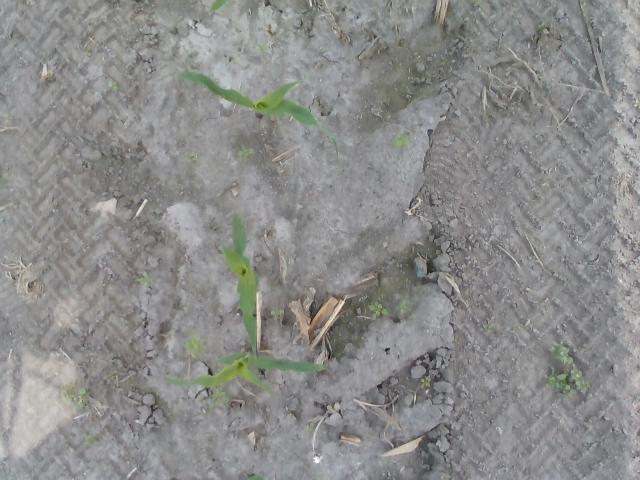Maize: (174, 71, 338, 161), (163, 352, 327, 396), (220, 211, 258, 359)
Weeds: (545, 346, 592, 398), (61, 384, 92, 410), (367, 302, 392, 320), (208, 390, 230, 410), (185, 336, 204, 357), (238, 144, 254, 161), (392, 132, 410, 146), (396, 300, 411, 316), (136, 270, 150, 286), (270, 308, 284, 323), (421, 376, 434, 390), (83, 434, 99, 444), (256, 41, 270, 52), (484, 325, 496, 336), (246, 473, 264, 480), (108, 80, 118, 91), (509, 320, 518, 330), (306, 424, 314, 433), (474, 1, 484, 7), (230, 22, 237, 28)
